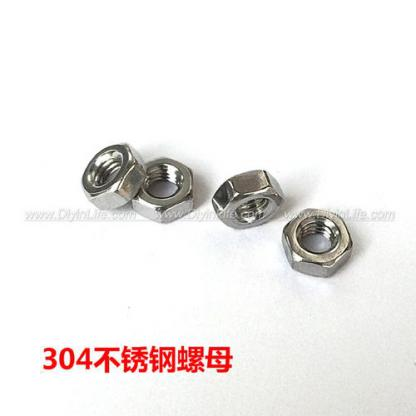FOD: (282, 204, 354, 278), (81, 140, 148, 212), (211, 168, 286, 229), (130, 155, 196, 224)
